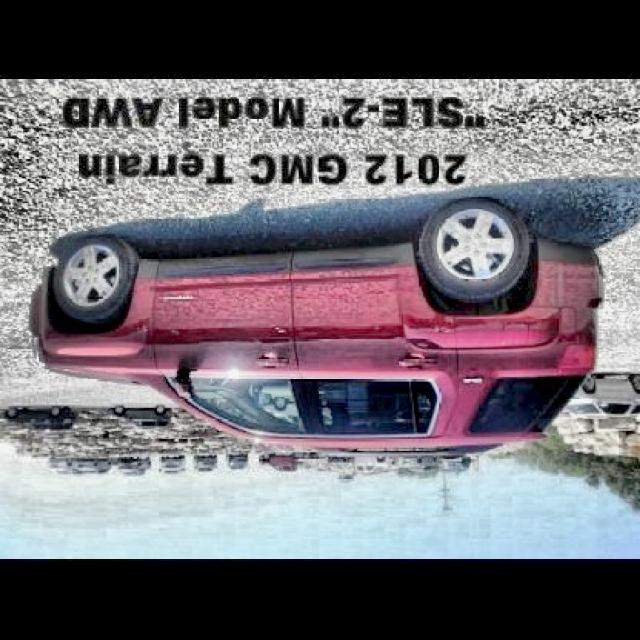maroon: (45, 207, 608, 473)
